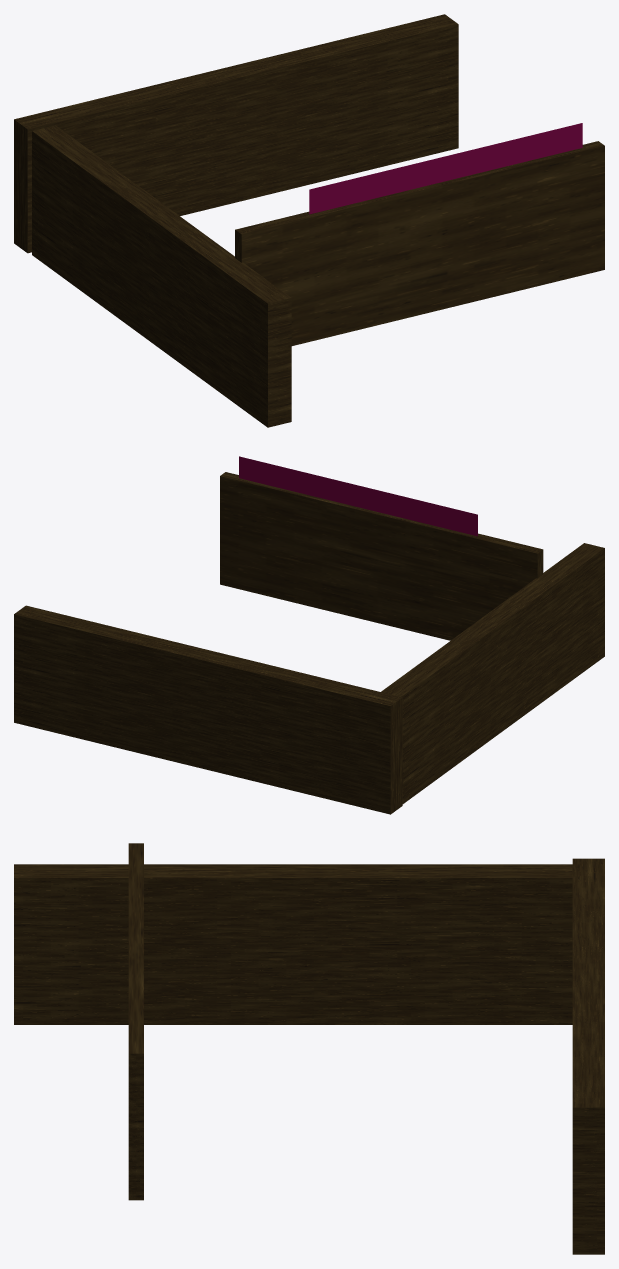
Rendered from tele_room_exterior_walls.glb.
3 views of the same model, one above another, from view 1: azimuth 30°, elevation 25°; view 2: azimuth 150°, elevation 25°; view 3: azimuth 270°, elevation 25° (orthographic). The views are drawn at different scales.
Visible parts, largest first — view 1: perimeter_walls; view 2: perimeter_walls; view 3: perimeter_walls.
Boxes of the visible parts, left/top/right/bottom form: perimeter_walls: left=14, top=14, right=604, bottom=427; perimeter_walls: left=14, top=456, right=604, bottom=814; perimeter_walls: left=14, top=843, right=604, bottom=1254.
Size of the model in its own units: 36.4 by 14.32 by 36.51.
Materials: 2 (1 with a texture image).
